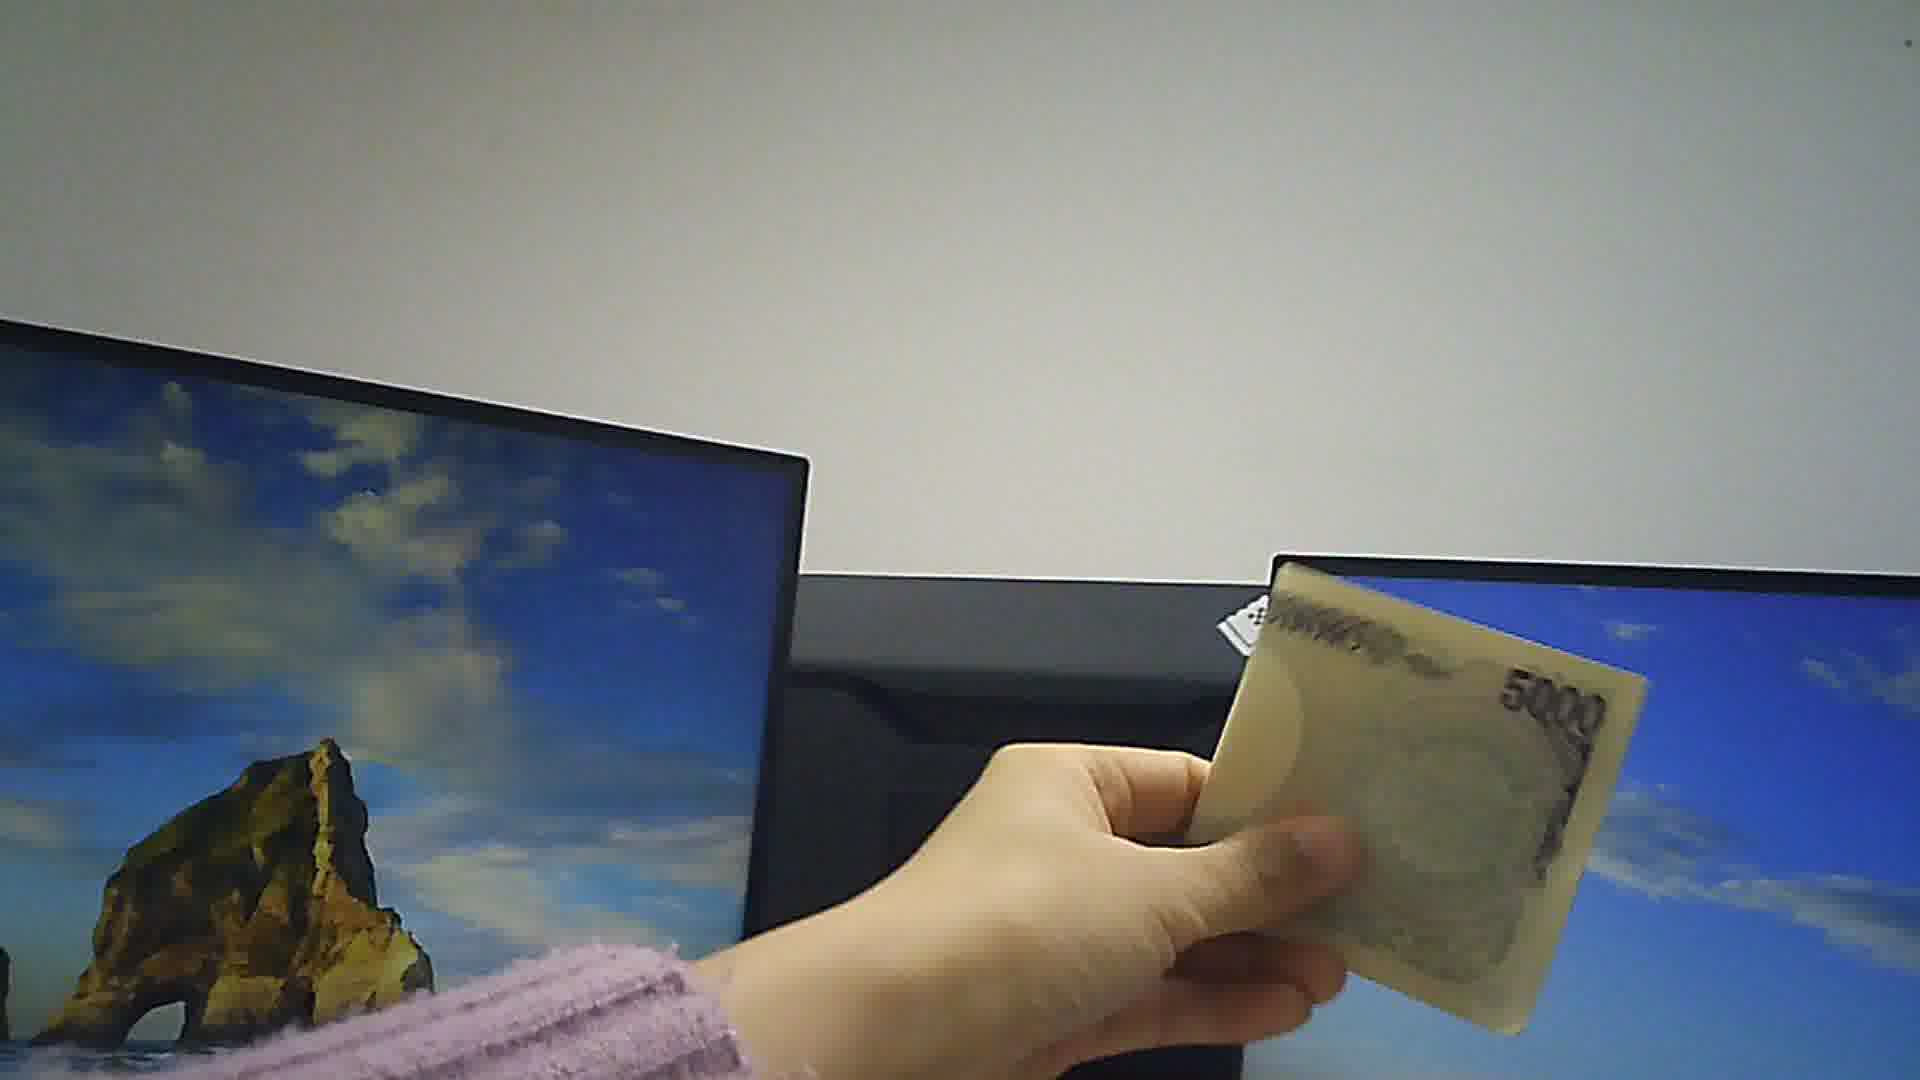5,000 Yen: (1179, 558, 1658, 1023)
